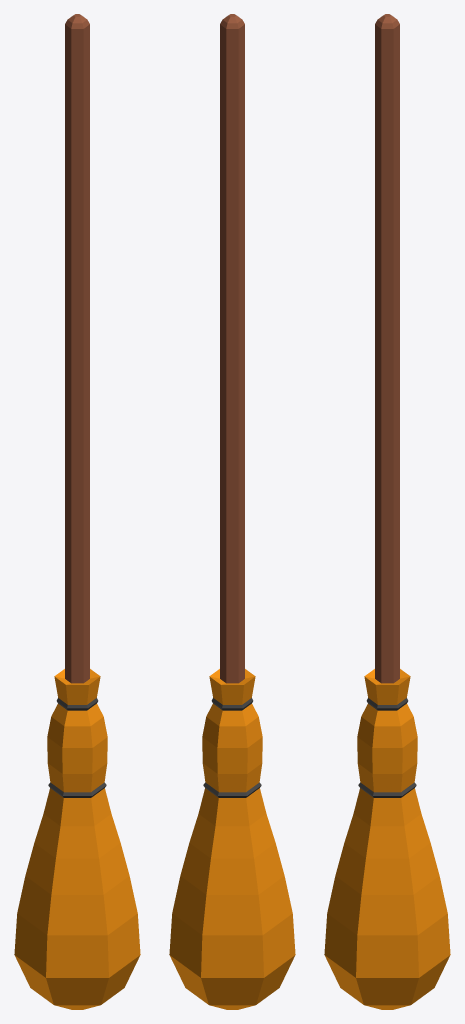
The model's file is broom.fbx.
3 views of the same model, side by side, from view 1: azimuth 30°, elevation 25°; view 2: azimuth 150°, elevation 25°; view 3: azimuth 330°, elevation 25° (orthographic).
Parts seen in each view (by area): view 1: broom; view 2: broom; view 3: broom.
Boxes of the visible parts, x1=… form: broom: x1=14, y1=14, x2=140, y2=1009; broom: x1=169, y1=14, x2=295, y2=1009; broom: x1=324, y1=14, x2=450, y2=1009.
Size of the model in its own units: 22.7 by 227 by 26.21.
